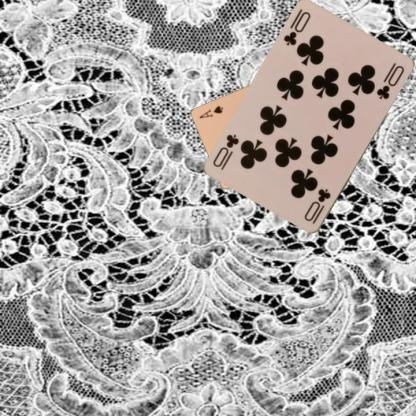10c: (281, 7, 312, 48), (302, 186, 332, 226)
